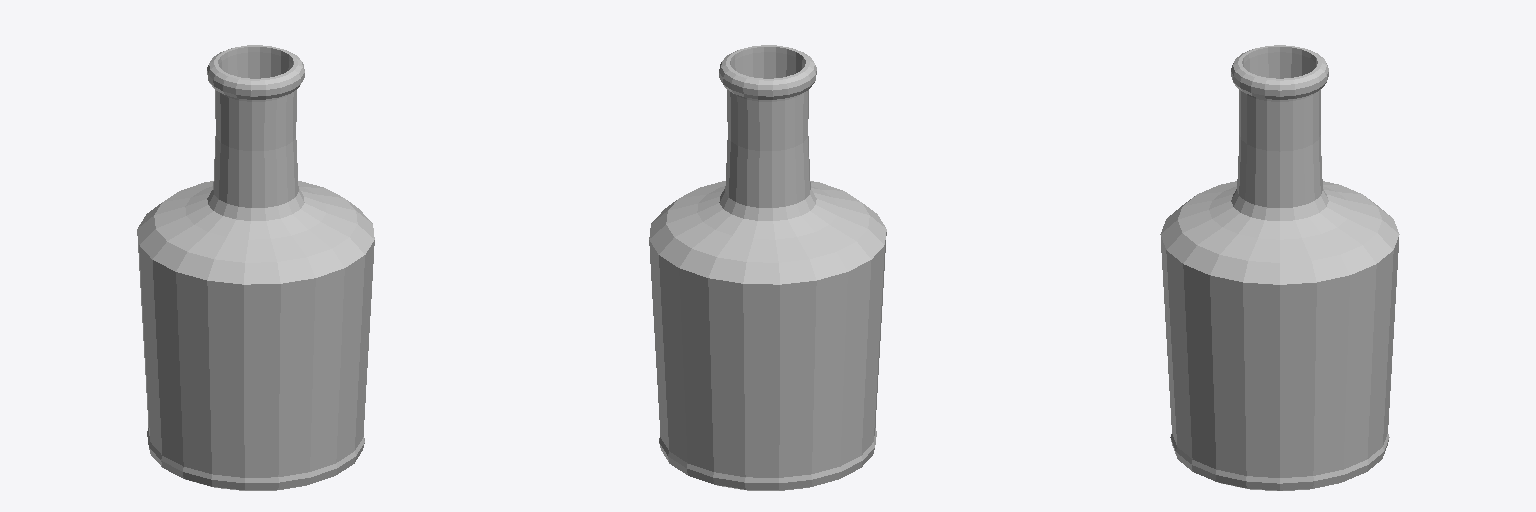
The model's file is bottlewonky.obj.
3 views of the same model, side by side, from view 1: azimuth 30°, elevation 25°; view 2: azimuth 150°, elevation 25°; view 3: azimuth 270°, elevation 25° (orthographic).
Parts seen in each view (by area): view 1: bottlewonky:bottles_lppCylinder2; view 2: bottlewonky:bottles_lppCylinder2; view 3: bottlewonky:bottles_lppCylinder2.
Part boxes in pixels (left/top/right/bottom): bottlewonky:bottles_lppCylinder2: left=137, top=45, right=374, bottom=490; bottlewonky:bottles_lppCylinder2: left=649, top=45, right=886, bottom=490; bottlewonky:bottles_lppCylinder2: left=1160, top=45, right=1399, bottom=490.
Size of the model in its own units: 1.73 by 3.08 by 1.73.